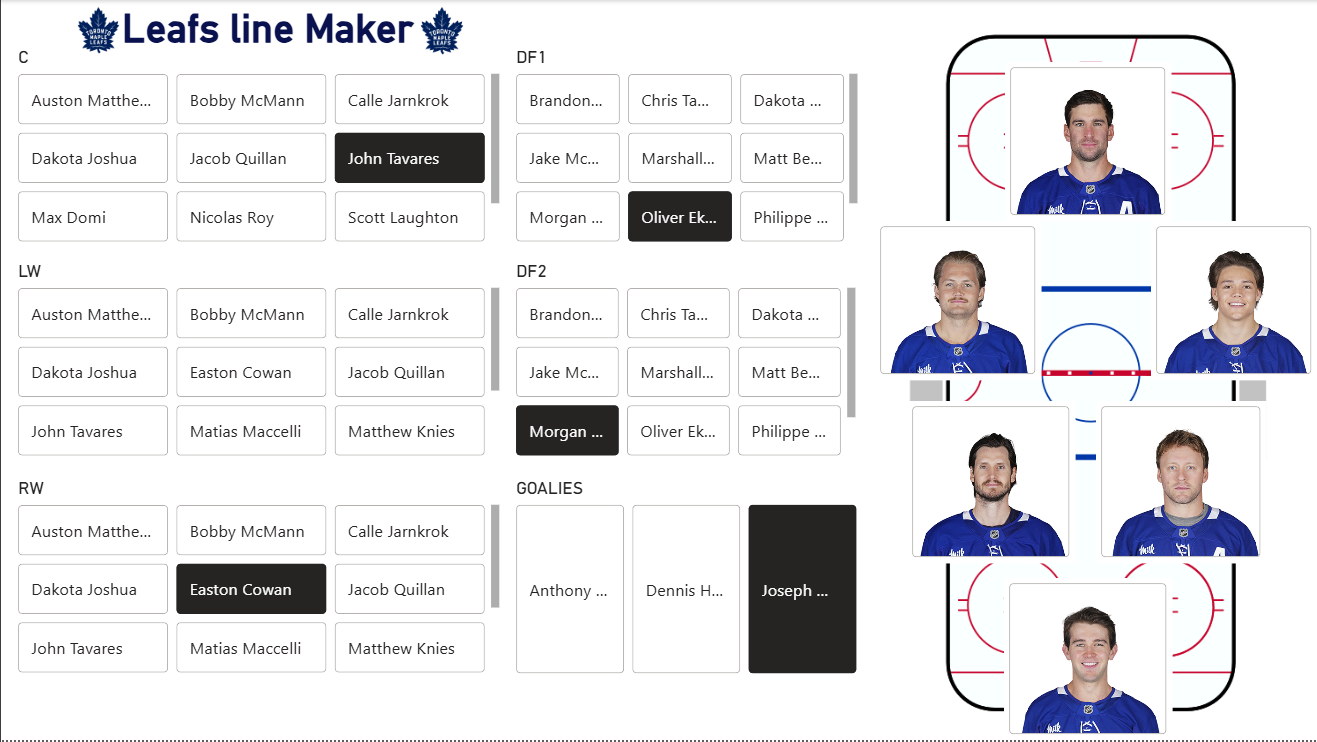

The dashboard page shown, as its layout file describes it:
{"tool":"powerbi","page":{"name":"line maker","canvas":[1280,720],"ordinal":0},"visuals":[{"type":"image","box":[831.4,1,448.6,719.4],"z":0},{"type":"advancedSlicerVisual","fields":{"Values":["Tabla_Centro.hs"]},"box":[976.2,60,161.9,154.9],"z":1000},{"type":"advancedSlicerVisual","title":"C","fields":{"Values":["Tabla_Centro.Personalizado"]},"box":[12,46,478.6,195.8],"z":2000},{"type":"advancedSlicerVisual","title":"LW","fields":{"Values":["Tabla_Ala_Izquierda.Personalizado"]},"box":[12,253.8,478.6,195.8],"z":3000},{"type":"advancedSlicerVisual","fields":{"Values":["Tabla_Ala_Izquierda.hs"]},"box":[850.3,214.8,161.9,154.9],"z":4000},{"type":"advancedSlicerVisual","title":"RW","fields":{"Values":["Tabla_Ala_Derecha.Personalizado"]},"box":[12,464.6,478.6,195.8],"z":5000},{"type":"advancedSlicerVisual","title":"DF1 ","fields":{"Values":["defensas.Personalizado"]},"box":[495.6,46,342.7,195.8],"z":6000},{"type":"advancedSlicerVisual","fields":{"Values":["defensas.hs"]},"box":[881.3,389.7,163.9,157.9],"z":7000},{"type":"advancedSlicerVisual","title":"DF2","fields":{"Values":["defensa 1.Personalizado"]},"box":[495.6,253.8,340.7,195.8],"z":8000},{"type":"advancedSlicerVisual","fields":{"Values":["defensa 1.hs"]},"box":[1065.2,389.7,165.9,157.9],"z":9000},{"type":"advancedSlicerVisual","title":"GOALIES","fields":{"Values":["goaliess.Personalizado"]},"box":[495.6,464.6,342.7,195.8],"z":10000},{"type":"advancedSlicerVisual","fields":{"Values":["goaliess.hs"]},"box":[975.2,562.6,163.9,157.9],"z":11000},{"type":"advancedSlicerVisual","fields":{"Values":["Tabla_Ala_Derecha.hs"]},"box":[1118.1,214.8,161.9,154.9],"z":12000},{"type":"textbox","box":[112.8,0,362.8,60.3],"z":13000},{"type":"image","box":[62.2,0,65.2,59.3],"z":15000},{"type":"image","box":[395.9,0,65.2,60.3],"z":16000}]}

Visuals, with their boxes in screenshot pixels (x1, y1, x2, y2), scaled from the page's 1280x720 canvas onto the 1317x742 screenshot:
image: Rect(855, 1, 1316, 741)
advancedSlicerVisual - Tabla_Centro.hs: Rect(1004, 62, 1171, 221)
"C" advancedSlicerVisual: Rect(12, 47, 505, 249)
"LW" advancedSlicerVisual: Rect(12, 262, 505, 463)
advancedSlicerVisual - Tabla_Ala_Izquierda.hs: Rect(875, 221, 1041, 381)
"RW" advancedSlicerVisual: Rect(12, 479, 505, 681)
"DF1 " advancedSlicerVisual: Rect(510, 47, 863, 249)
advancedSlicerVisual - defensas.hs: Rect(907, 402, 1075, 564)
"DF2" advancedSlicerVisual: Rect(510, 262, 860, 463)
advancedSlicerVisual - defensa 1.hs: Rect(1096, 402, 1267, 564)
"GOALIES" advancedSlicerVisual: Rect(510, 479, 863, 681)
advancedSlicerVisual - goaliess.hs: Rect(1003, 580, 1172, 741)
advancedSlicerVisual - Tabla_Ala_Derecha.hs: Rect(1150, 221, 1316, 381)
textbox: Rect(116, 0, 489, 62)
image: Rect(64, 0, 131, 61)
image: Rect(407, 0, 474, 62)
